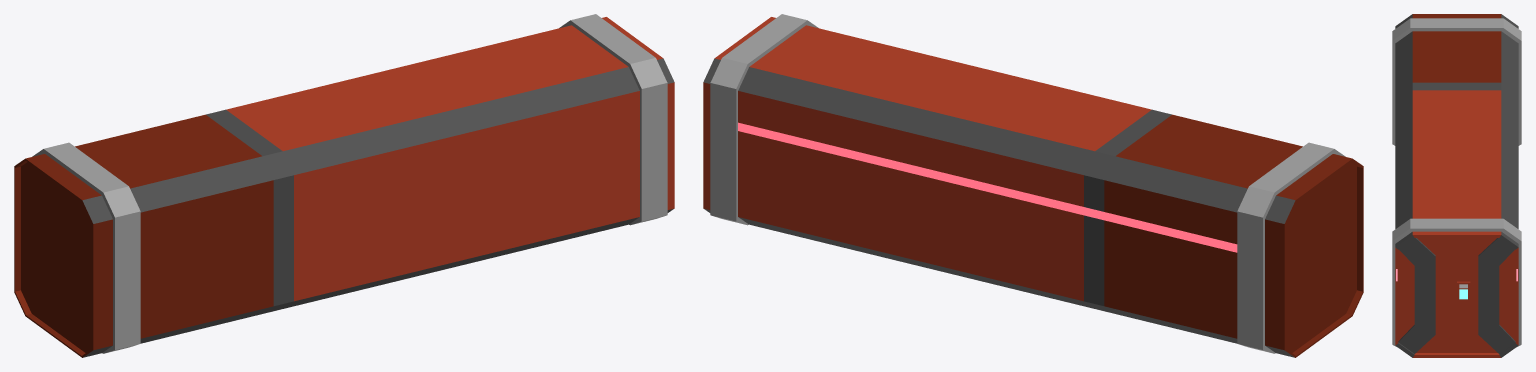
The model's file is Long Red Container.fbx.
The picture shows the model from 3 angles, left to right: view 1: azimuth 30°, elevation 25°; view 2: azimuth 150°, elevation 25°; view 3: azimuth 270°, elevation 25°; orthographic projection. The views are drawn at different scales.
Parts seen in each view (by area): view 1: Cube; view 2: Cube; view 3: Cube.
Part boxes in pixels (x1,y1,x2,y2): Cube: [14, 14, 674, 357]; Cube: [703, 14, 1363, 357]; Cube: [1392, 14, 1521, 357].
Size of the model in its own units: 1035 by 275 by 256.
